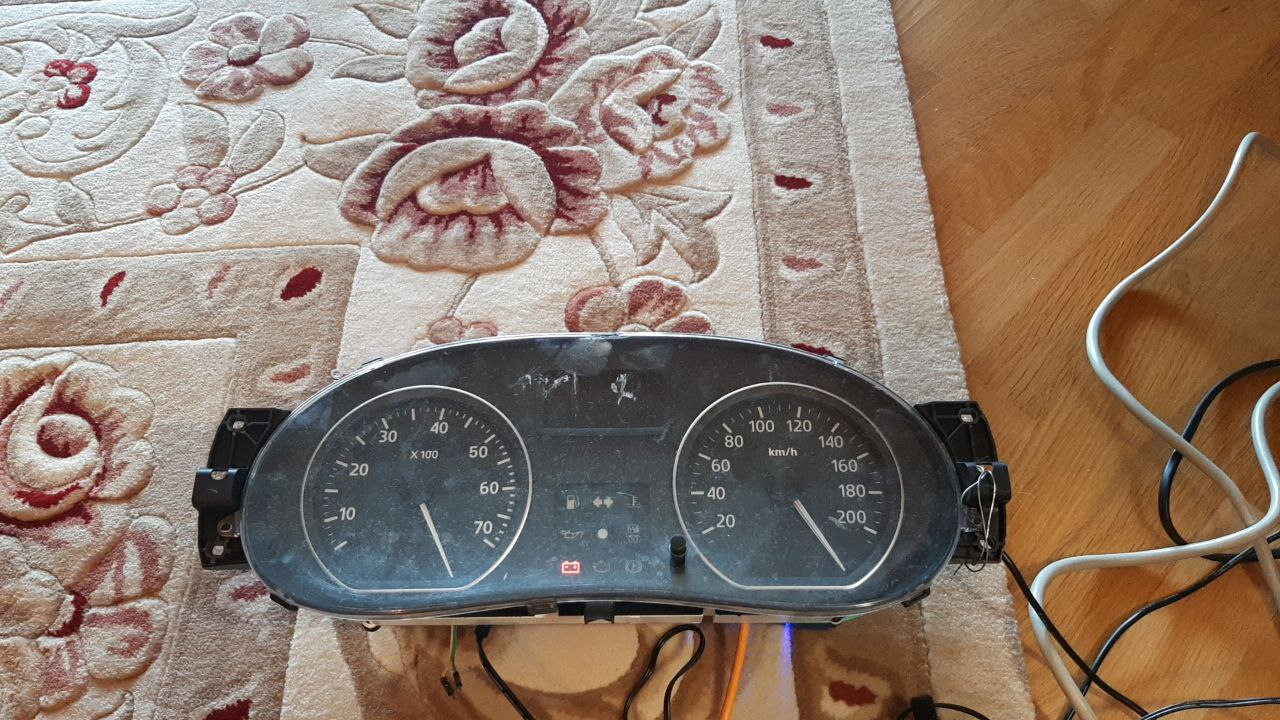accumulator: (560, 560, 582, 574)
